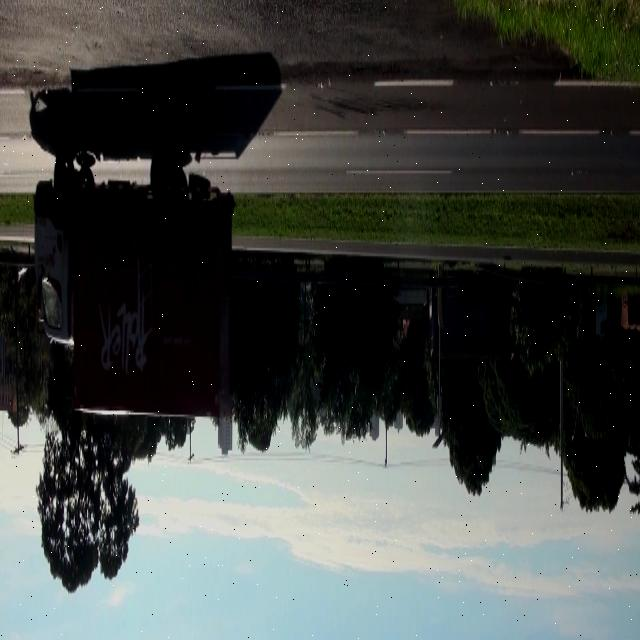-axle: (147, 147, 175, 210), (50, 152, 70, 212)
